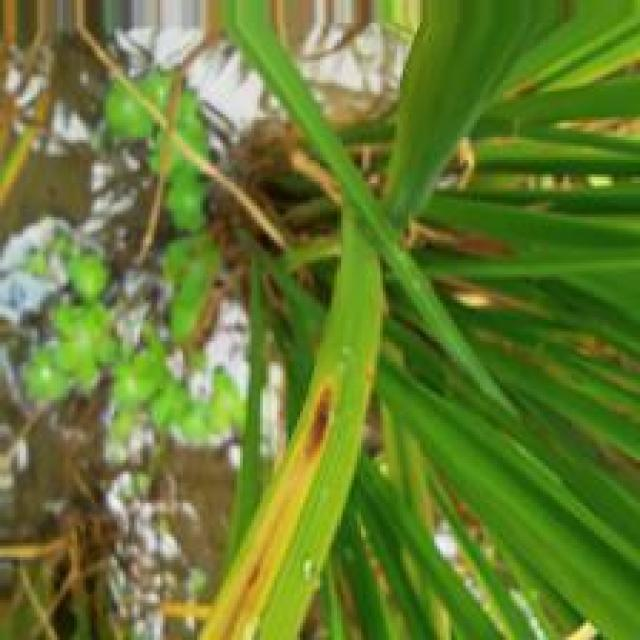Narrow_Brown_Leaf_Spot: (188, 373, 340, 640)
